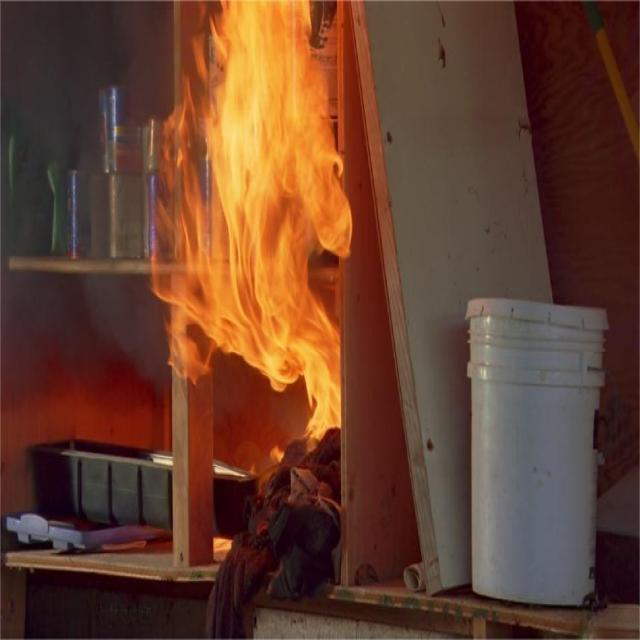Fire: (150, 6, 352, 442)
